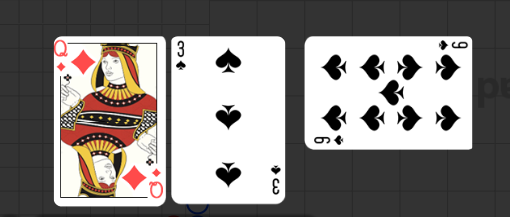9S: (313, 134, 347, 148), (437, 40, 470, 52)
QD: (66, 36, 110, 83), (133, 157, 177, 203)
